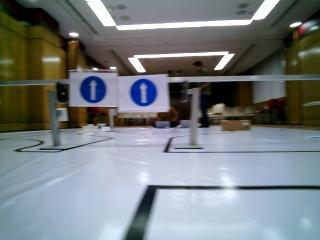straight: (67, 71, 118, 106), (120, 75, 168, 109)
